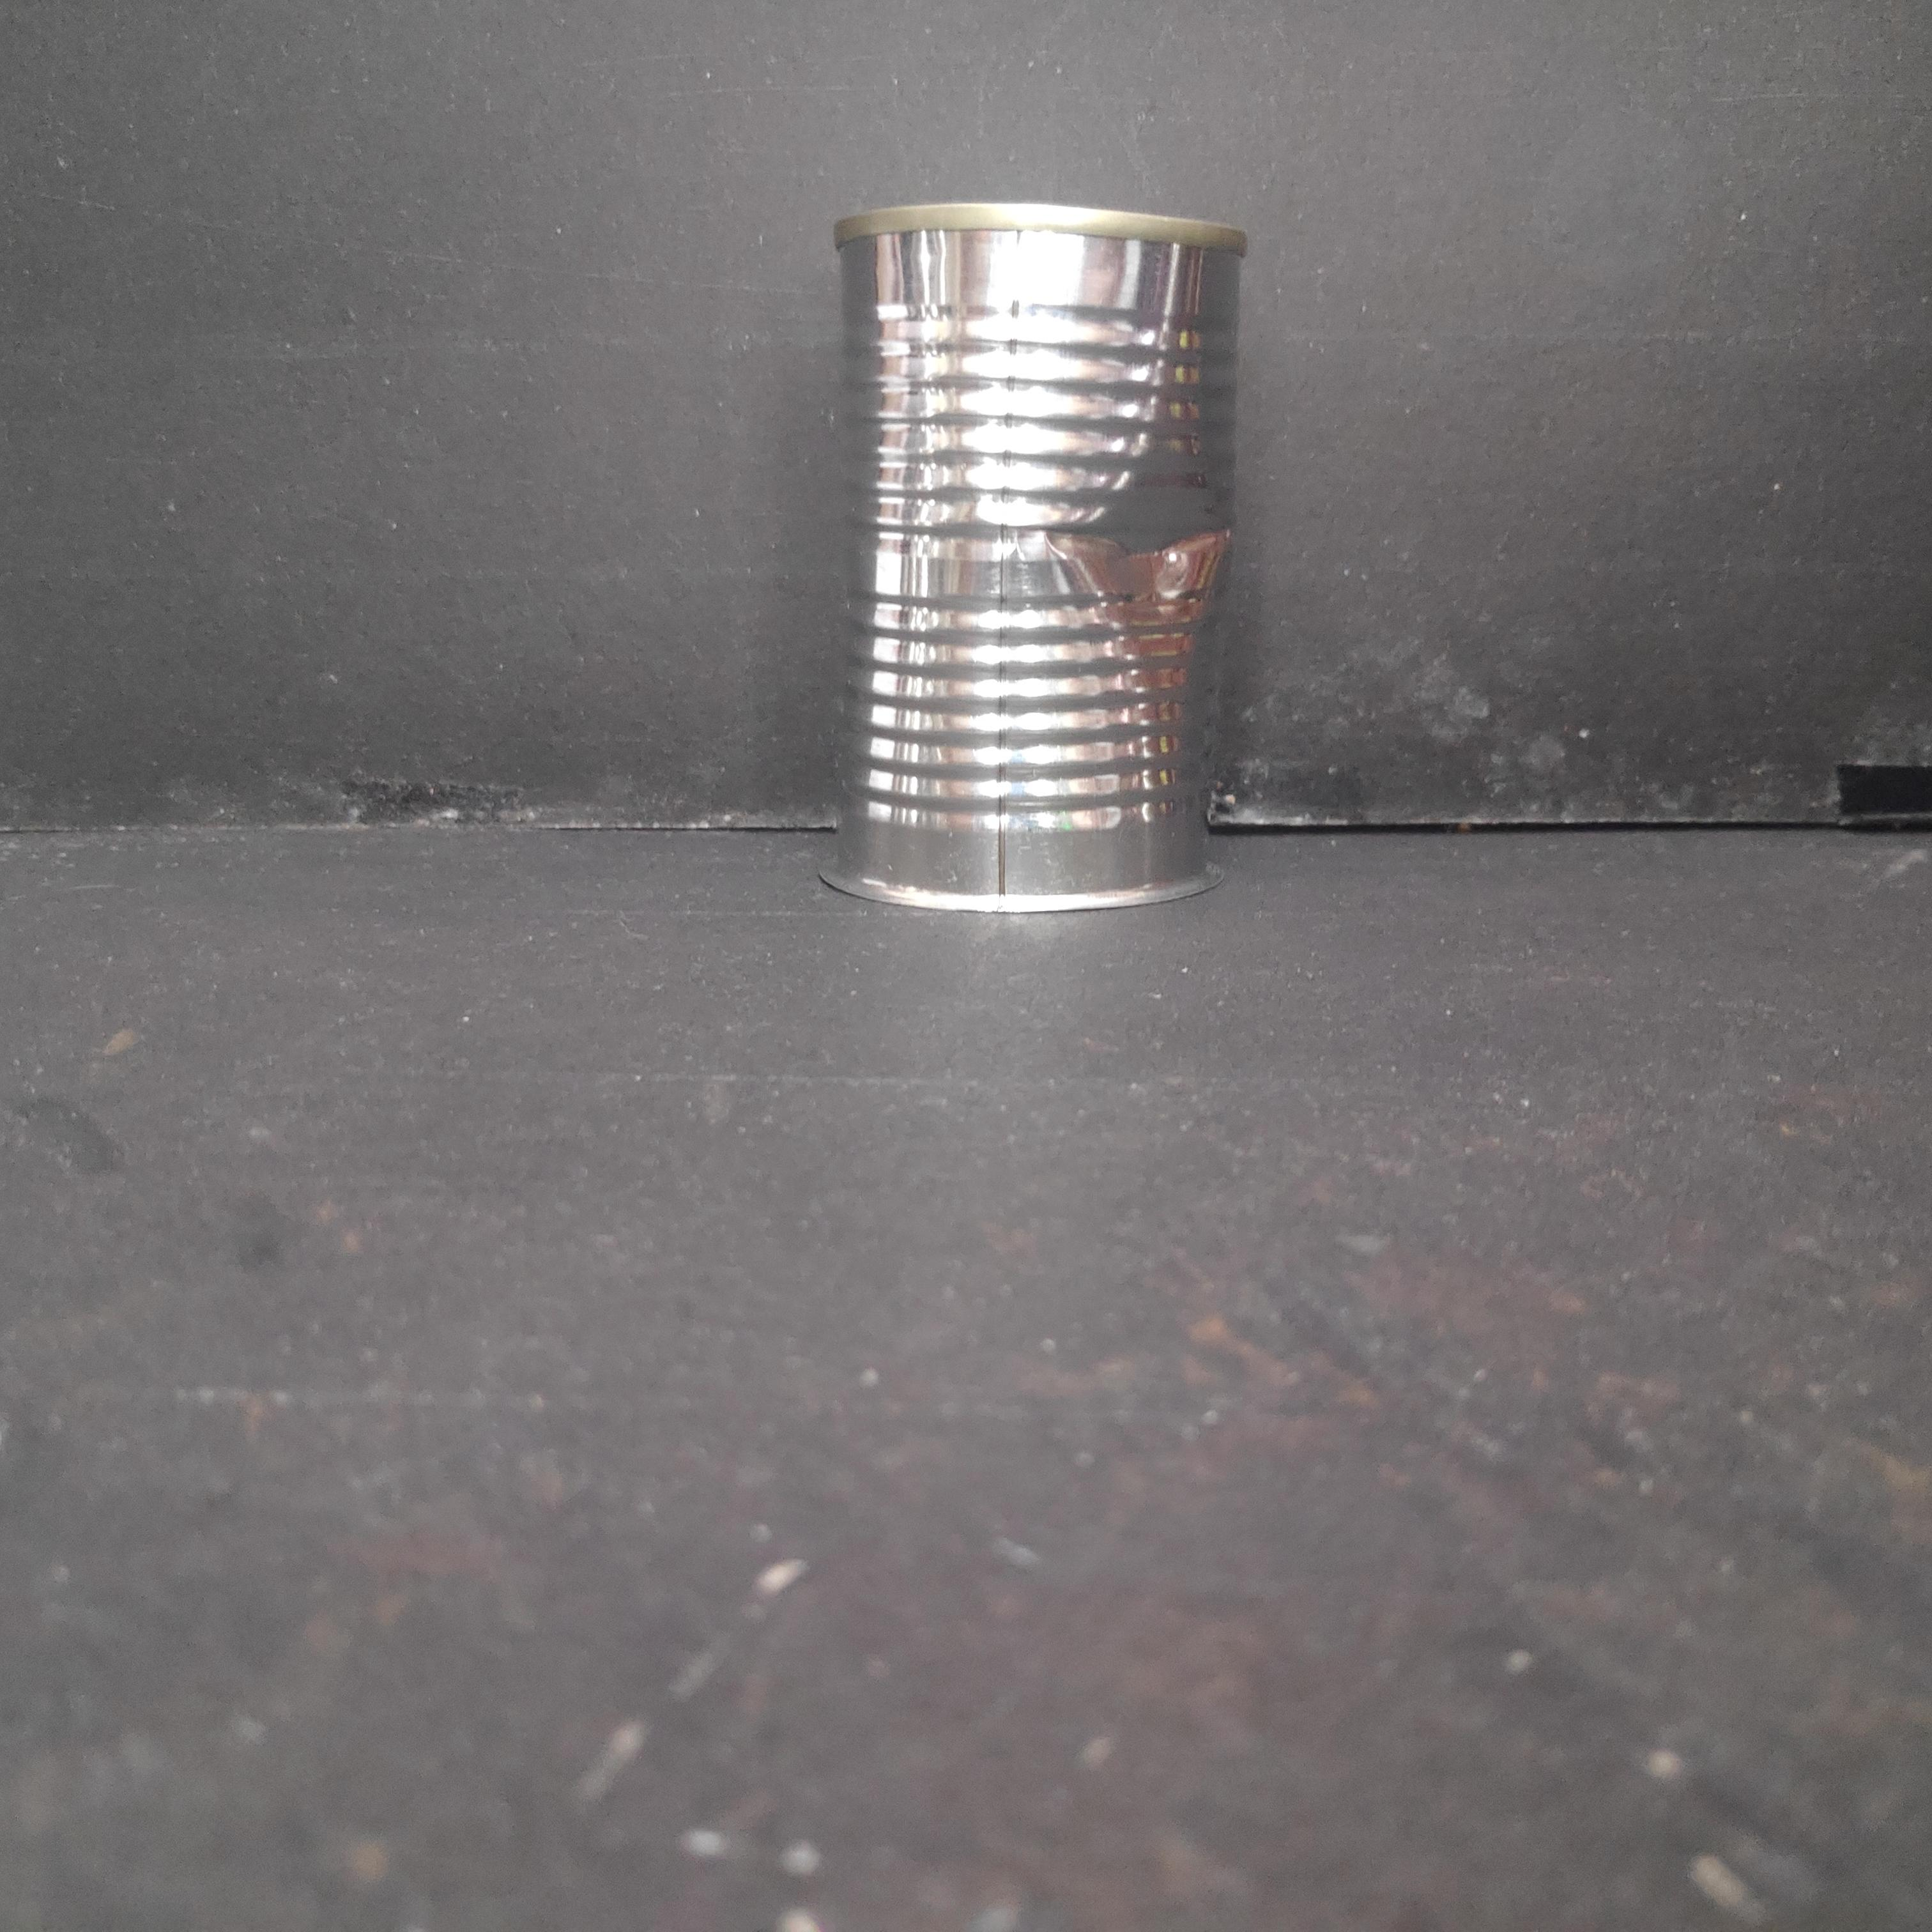Minor Defect: (816, 196, 1254, 920)
